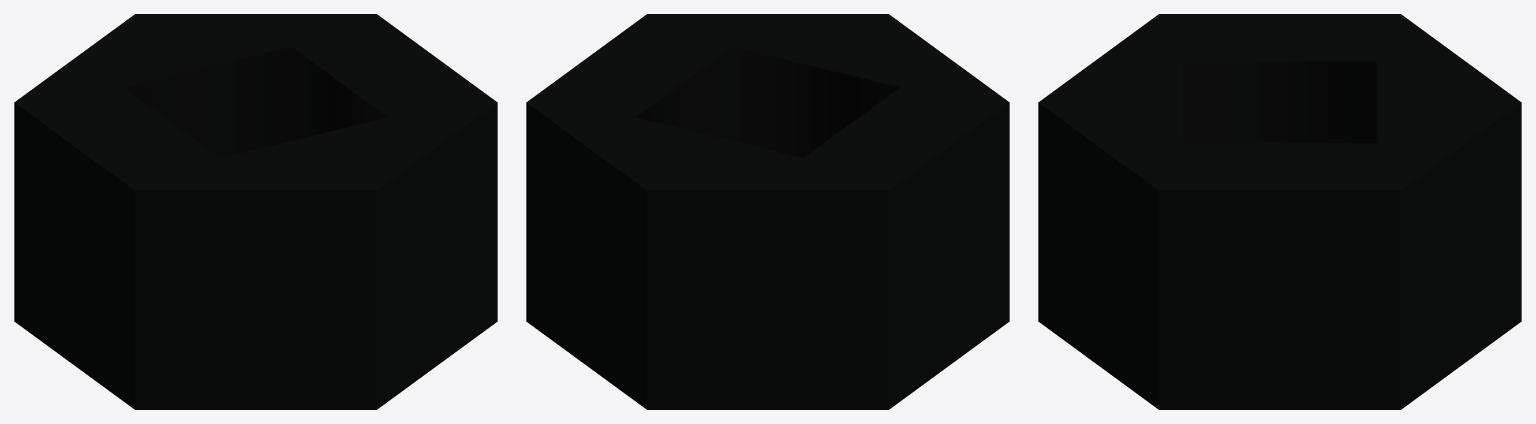
Rendered from debris-nut.glb.
The picture shows the model from 3 angles, left to right: view 1: azimuth 30°, elevation 25°; view 2: azimuth 150°, elevation 25°; view 3: azimuth 270°, elevation 25°; orthographic projection.
Visible parts, largest first — view 1: debris-nut; view 2: debris-nut; view 3: debris-nut.
Boxes of the visible parts, <box> form: debris-nut: <box>14,14,497,409</box>; debris-nut: <box>526,14,1009,409</box>; debris-nut: <box>1038,14,1521,409</box>.
Bounding box in the file's own units: 0.1732 × 0.1001 × 0.2.
1 material, 1 textured.
